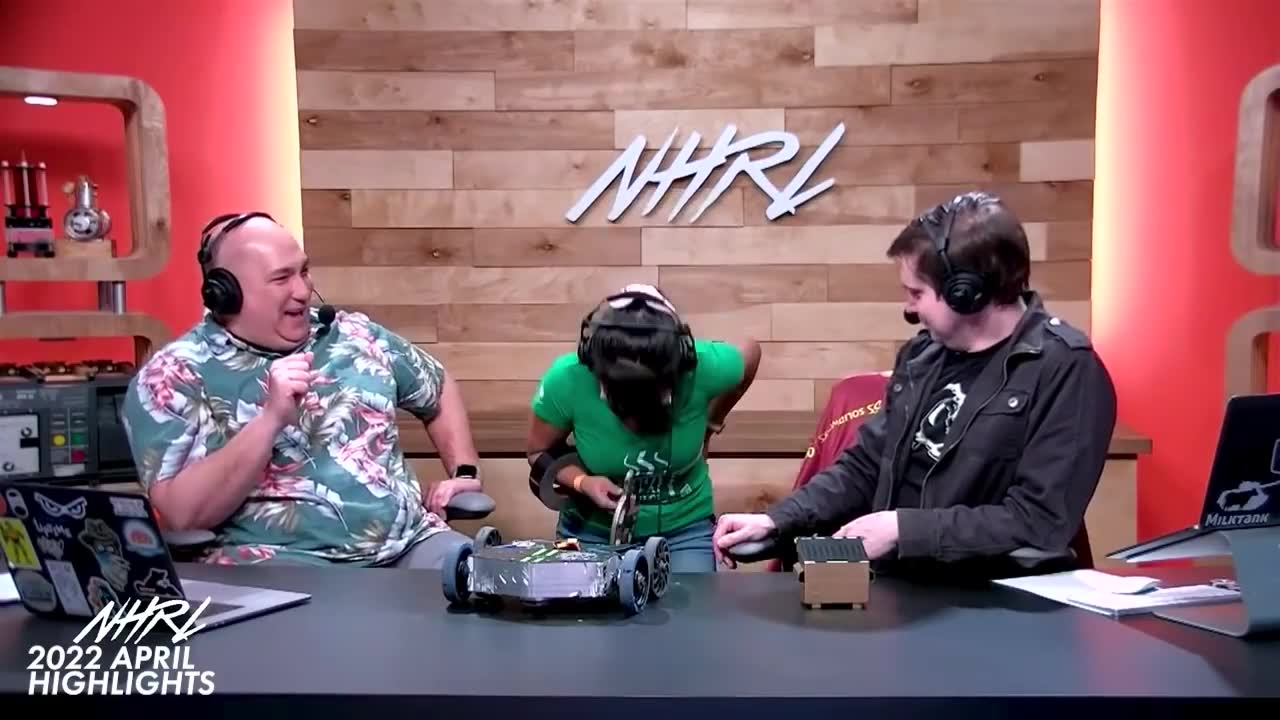combatbot: (437, 524, 676, 623)
